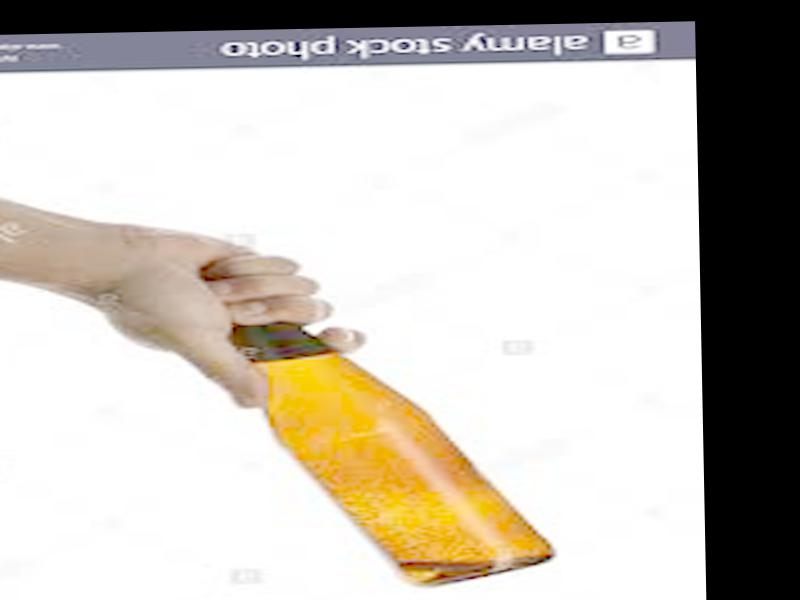Beer: (206, 259, 556, 594)
